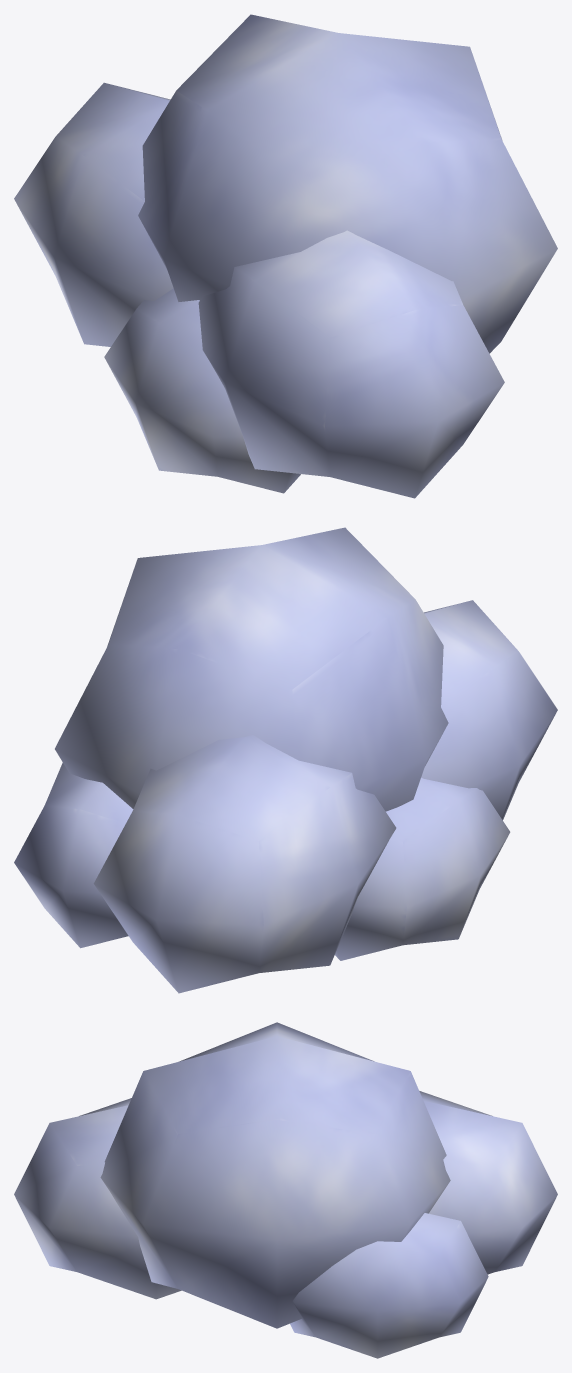
File: clouds1.FBX
The picture shows the model from 3 angles, top to bottom: view 1: azimuth 30°, elevation 25°; view 2: azimuth 150°, elevation 25°; view 3: azimuth 270°, elevation 25°; orthographic projection. The views are drawn at different scales.
Visible parts, largest first — view 1: clouds1; view 2: clouds1; view 3: clouds1.
Boxes of the visible parts, left/top/right/bottom form: clouds1: left=14, top=14, right=557, bottom=498; clouds1: left=14, top=527, right=557, bottom=993; clouds1: left=14, top=1022, right=557, bottom=1358.
Size of what is drawn, in the model's own units: 6.2 by 9.78 by 6.1.
